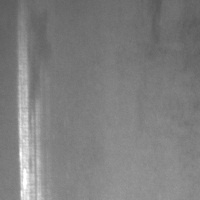inclusion: (146, 1, 164, 44)
scratches: (18, 44, 43, 199)
